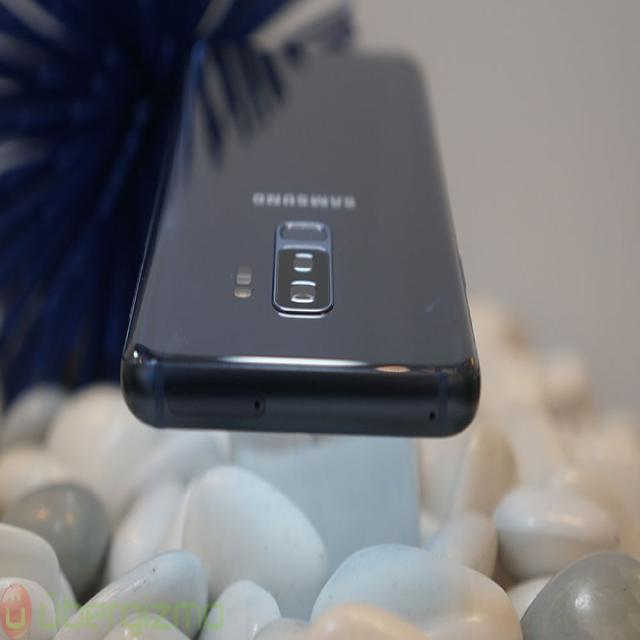mobile phone: (118, 36, 482, 440)
